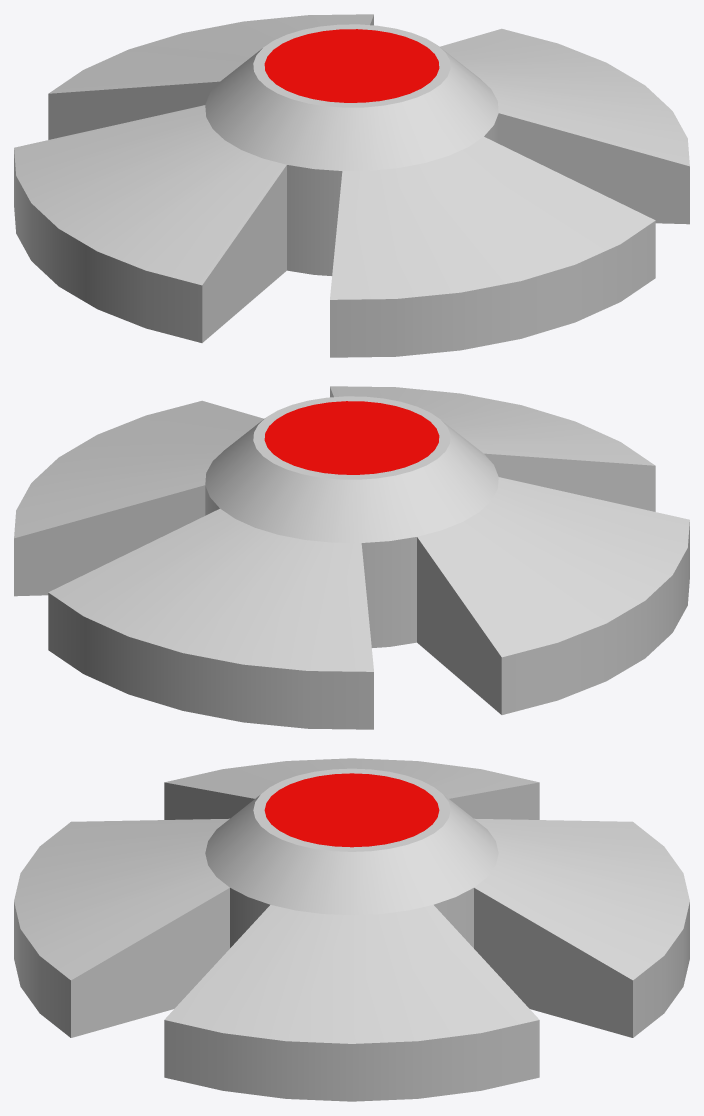
Rendered from mine.fbx.
3 renders of one model, top to bottom at view 1: azimuth 30°, elevation 25°; view 2: azimuth 150°, elevation 25°; view 3: azimuth 270°, elevation 25°, orthographic.
Visible parts, largest first — view 1: Cylinder; view 2: Cylinder; view 3: Cylinder.
Part boxes in pixels (box(x1,y1,x2,y2)): Cylinder: box(14, 14, 689, 357); Cylinder: box(14, 386, 689, 729); Cylinder: box(14, 758, 689, 1101).
Size of the model in its own units: 92.14 by 22.34 by 92.14.
